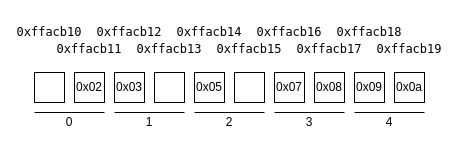
Image size: 459x149. Some labels were removed from this diagram. The centre of each missing label's shape, as x and y in pixels:
0x01: the point at 49,87
0x04: the point at 169,87
0x06: the point at 249,87
